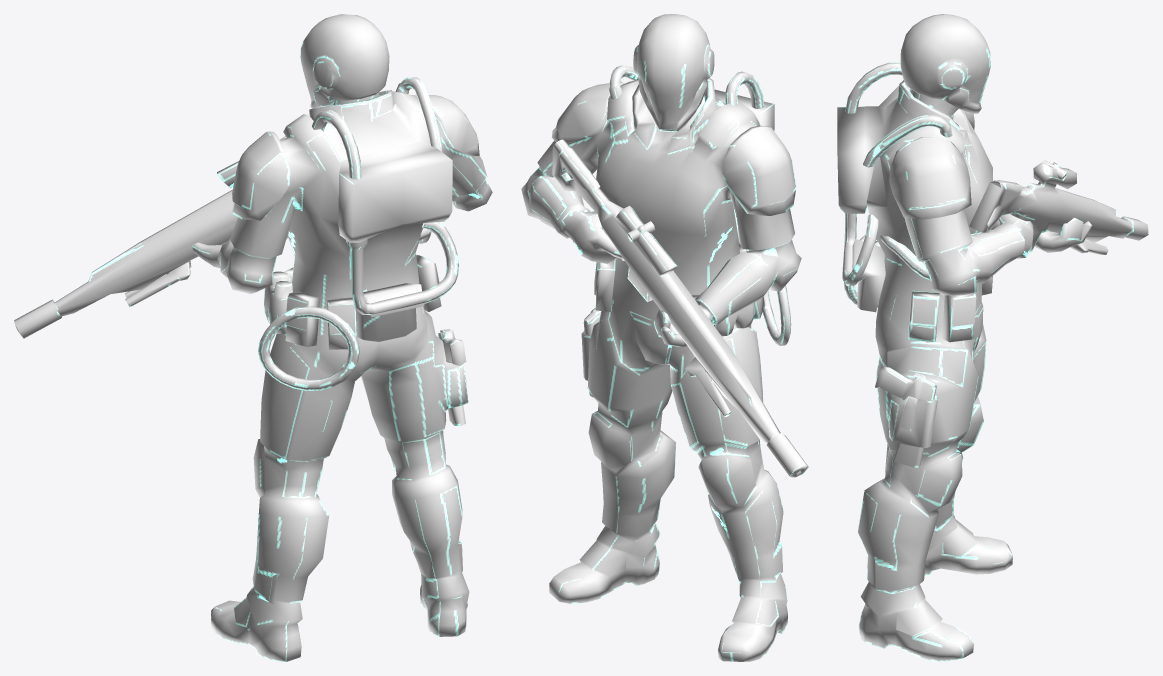
File: fusiller_v3.glb
3 renders of one model, left to right at view 1: azimuth 30°, elevation 25°; view 2: azimuth 150°, elevation 25°; view 3: azimuth 270°, elevation 25°, orthographic. The views are drawn at different scales.
Visible parts, largest first — view 1: fusiller_v3; view 2: fusiller_v3; view 3: fusiller_v3.
Part boxes in pixels (x1=…): fusiller_v3: x1=14, y1=14, x2=492, y2=661; fusiller_v3: x1=521, y1=14, x2=808, y2=661; fusiller_v3: x1=837, y1=14, x2=1148, y2=661.
Bounding box in the file's own units: 1.7 × 2.6 × 1.25.
Materials: 1 (1 with a texture image).
